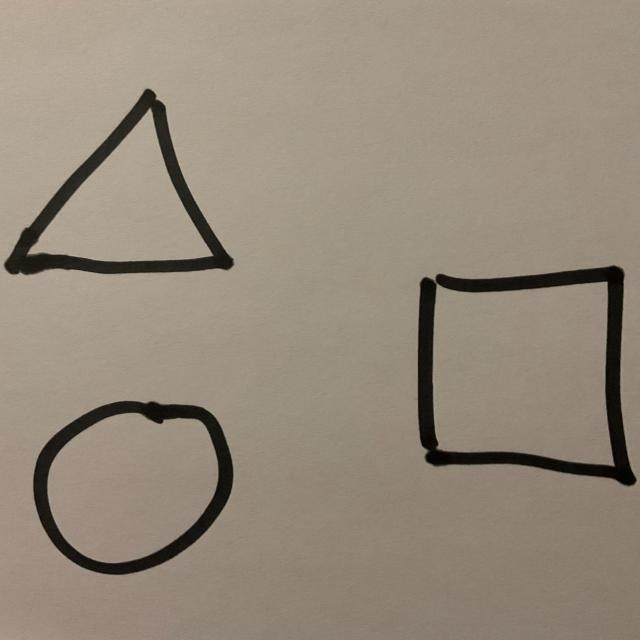Dreieck: (5, 90, 234, 278)
Kreis: (32, 401, 236, 578)
Quadrat: (415, 266, 637, 488)
